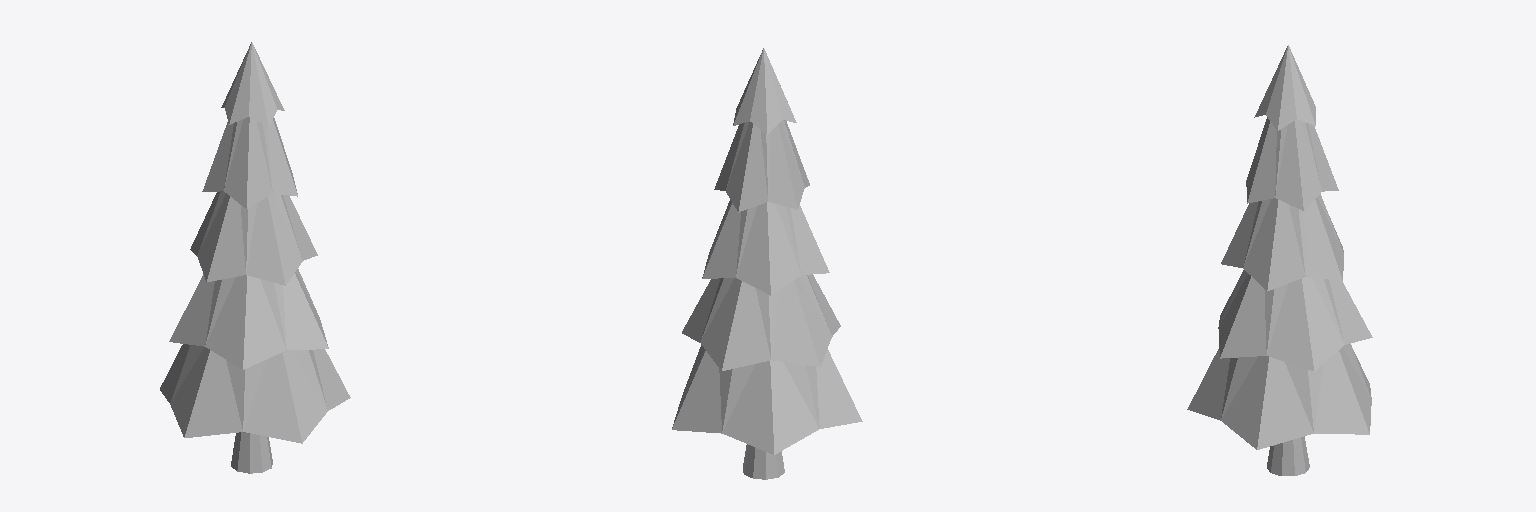
Rendered from TreeSwaying1.obj.
The picture shows the model from 3 angles: view 1: azimuth 30°, elevation 25°; view 2: azimuth 150°, elevation 25°; view 3: azimuth 270°, elevation 25°; orthographic projection.
Visible parts, largest first — view 1: Cylinder.001; view 2: Cylinder.001; view 3: Cylinder.001.
Boxes of the visible parts, x1=… form: Cylinder.001: x1=160, y1=42, x2=350, y2=473; Cylinder.001: x1=672, y1=48, x2=862, y2=479; Cylinder.001: x1=1187, y1=45, x2=1372, y2=475.
Size of the model in its own units: 5.86 by 14.24 by 5.66.